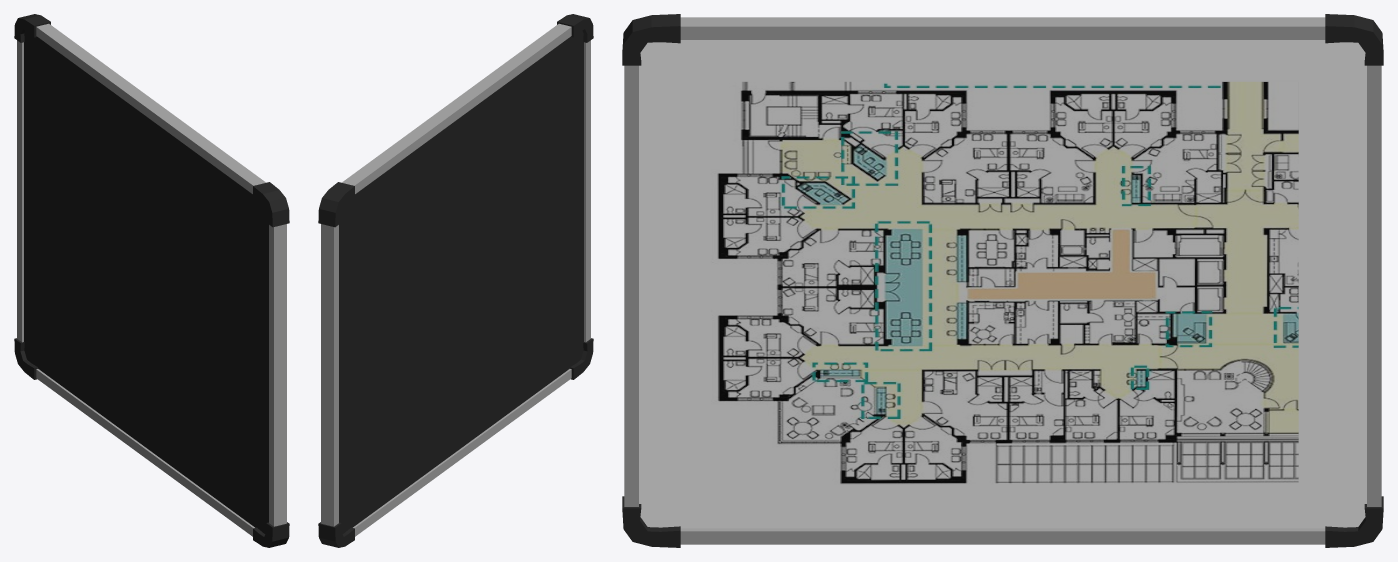
The model's file is board_map_horizontal.dae.
The picture shows the model from 3 angles, left to right: view 1: azimuth 30°, elevation 25°; view 2: azimuth 150°, elevation 25°; view 3: azimuth 270°, elevation 25°; orthographic projection. The views are drawn at different scales.
Visible parts, largest first — view 1: Cube.1, Cube.003, Cube, Cube.002, Cube.004, Cube.005, Cube.008, Cube.006, Cube.007; view 2: Cube.1, Cube.004, Cube, Cube.002, Cube.003, Cube.006, Cube.007, Cube.005, Cube.008; view 3: Cube.1, Cube, Cube.002, Cube.003, Cube.004, Cube.005, Cube.006, Cube.008, Cube.007.
Boxes of the visible parts, x1,y1,x2,y2 form: Cube.1: (24,31,268,534); Cube.003: (269,224,286,526); Cube: (36,23,265,193); Cube.002: (36,369,254,536); Cube.004: (17,40,23,342); Cube.005: (253,182,289,227); Cube.008: (253,522,289,547); Cube.006: (14,14,50,42); Cube.007: (14,338,37,379); Cube.1: (339,31,583,534); Cube.004: (321,224,338,526); Cube: (342,23,571,193); Cube.002: (353,369,571,536); Cube.003: (584,40,590,342); Cube.006: (318,182,354,227); Cube.007: (318,522,354,547); Cube.005: (557,14,593,42); Cube.008: (570,338,593,379); Cube.1: (639,40,1366,528); Cube: (680,17,1325,39); Cube.002: (680,528,1325,544); Cube.003: (624,65,638,506); Cube.004: (1367,65,1381,506); Cube.005: (622,14,680,65); Cube.006: (1325,14,1383,65); Cube.008: (622,496,680,547); Cube.007: (1325,496,1383,547).
Size of the model in its own units: 0.0292 by 0.7795 by 0.5895.
